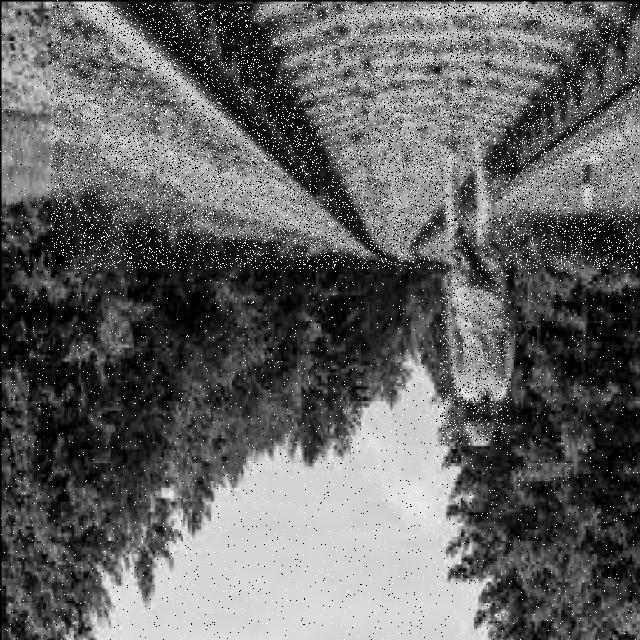rail: (53, 5, 640, 270)
